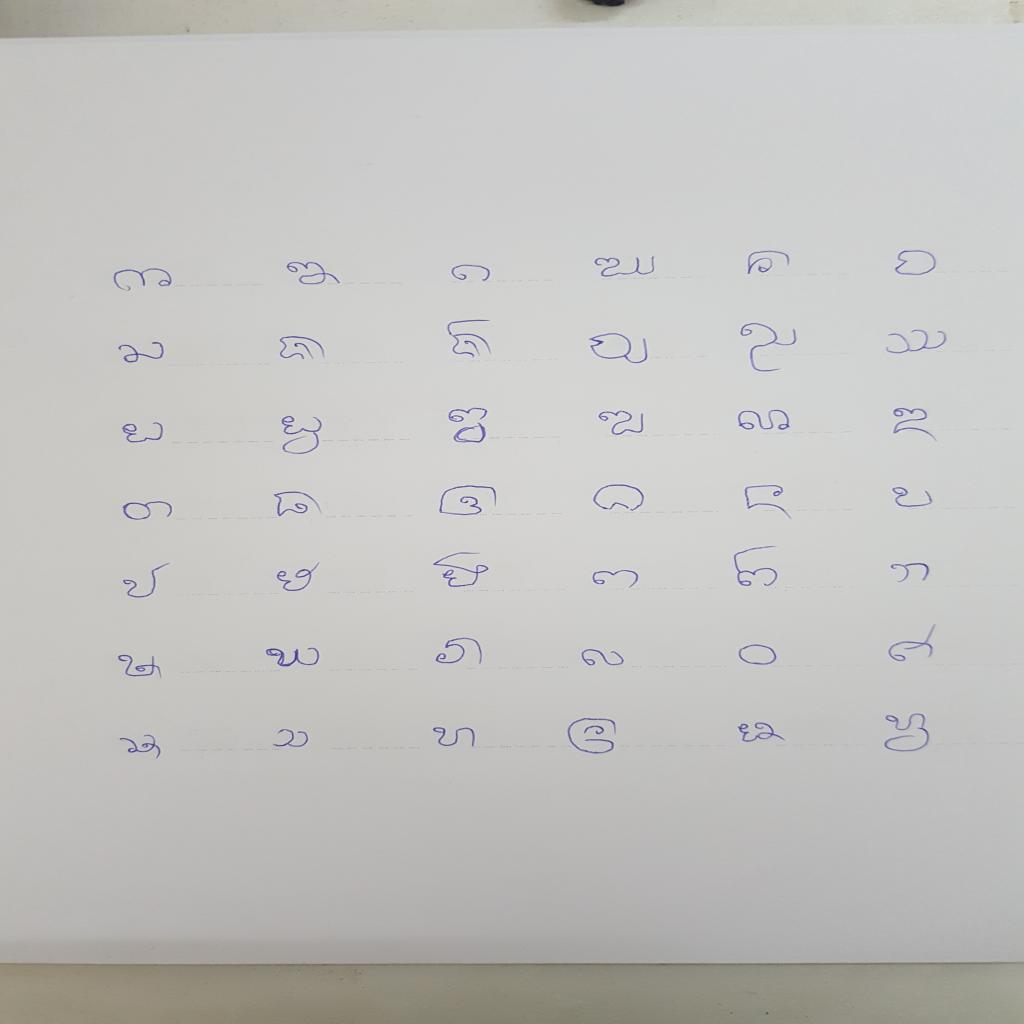LN002: (281, 259, 348, 289)
LN003: (447, 263, 496, 285)
LN004: (590, 254, 663, 282)
LN007: (113, 339, 171, 368)
LN008: (274, 333, 331, 365)
LN009: (443, 317, 500, 363)
LN012: (882, 327, 953, 357)
LN013: (116, 419, 170, 447)
LN014: (278, 414, 328, 459)
LN016: (595, 408, 651, 439)
LN017: (732, 407, 797, 435)
LN018: (888, 406, 943, 447)
LN019: (118, 499, 179, 524)
LN021: (434, 482, 504, 520)
LN022: (588, 482, 651, 516)
LN023: (738, 482, 799, 524)
LN024: (888, 485, 939, 511)
LN025: (118, 561, 177, 603)
LN026: (272, 560, 328, 595)
LN028: (587, 568, 645, 593)
LN029: (728, 543, 784, 592)
LN030: (884, 560, 937, 586)
LN031: (111, 652, 169, 684)
LN033: (431, 636, 489, 668)
LN034: (576, 646, 631, 670)
LN035: (732, 642, 783, 669)
LN036: (885, 634, 944, 667)
LN038: (268, 727, 317, 752)
LN039: (428, 724, 484, 752)
LN041: (731, 720, 790, 746)
LN042: (879, 712, 936, 756)
